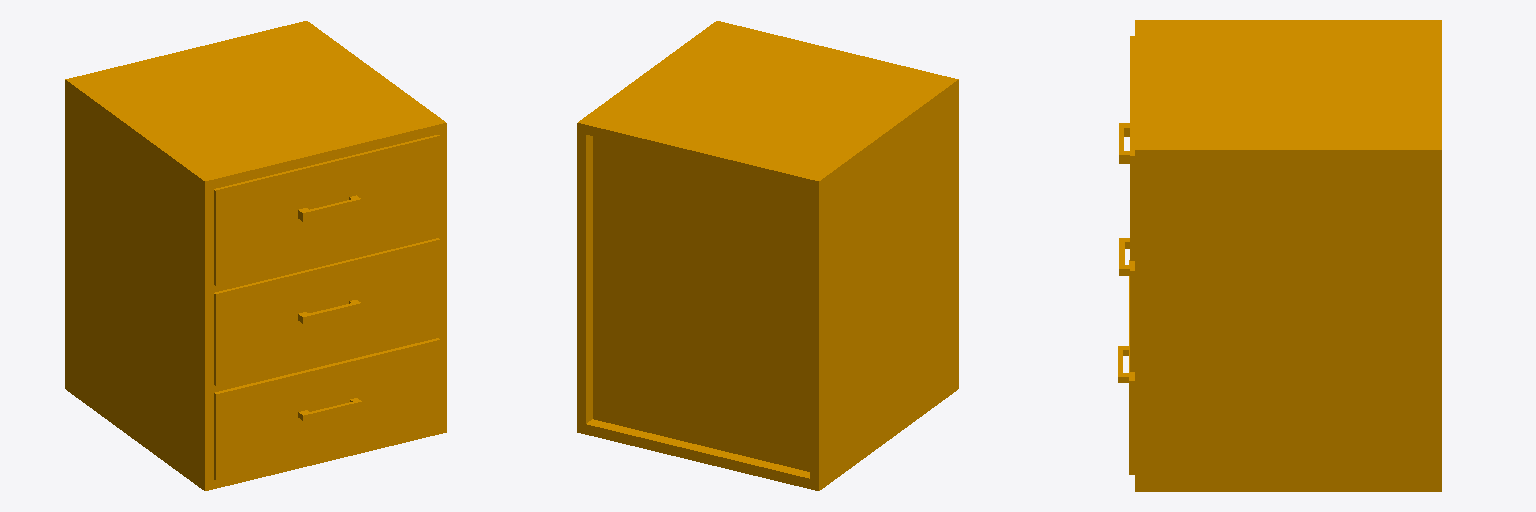
URDF robot description (nightstand):
<?xml version="1.0" ?>
<robot name="nightstand">

  <material name="gray">
    <color rgba="0.5, 0.5, 0.5, 1"/>
  </material>

  <link name="root">
    <inertial>
      <mass value="0"/>
      <origin rpy="0 0 0" xyz="0 0 0"/>
      <inertia ixx="0.01" ixy="0.0" ixz="0.0" iyy="0.01" iyz="0.0" izz="0.01"/>
    </inertial>
    <visual>
      <origin rpy="1.57079632679 0 0" xyz="0 0 0"/>
      <geometry>
        <mesh filename="nightstand.obj" scale="0.275 0.275 0.275"/>
      </geometry>
      <material name="gray"/>
    </visual>
    <collision>
      <origin rpy="1.57079632679 0 0" xyz="0 0 0"/>
      <geometry>
        <mesh filename="nightstand.obj" scale="0.275 0.275 0.275"/>
      </geometry>
    </collision>
  </link>
</robot>


--- Render facts (derived) ---
Views: 3 orthographic renders of the robot side by side, from view 1: azimuth 30°, elevation 25°; view 2: azimuth 150°, elevation 25°; view 3: azimuth 270°, elevation 25°.
Model nightstand with 1 links and 0 joints (none), rooted at root, posed every joint at zero.
Visible links, largest first — view 1: root; view 2: root; view 3: root.
Boxes of the visible links, left/top/right/bottom form: root: left=65, top=21, right=446, bottom=490; root: left=577, top=21, right=958, bottom=490; root: left=1118, top=20, right=1441, bottom=491.
Size in the robot's own frame: 0.55 by 0.5794 by 0.6739 metres.
Meshes: 1 distinct files referenced, 1 mesh visuals loaded (1 OBJ).